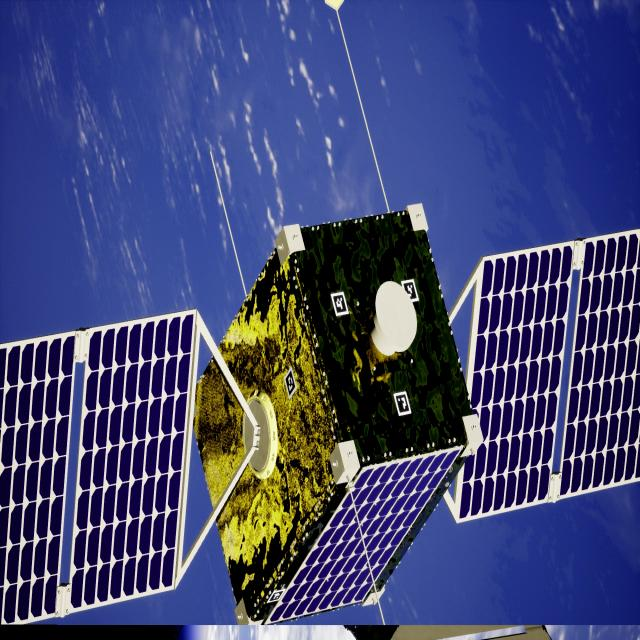satellite: (0, 204, 640, 627)
